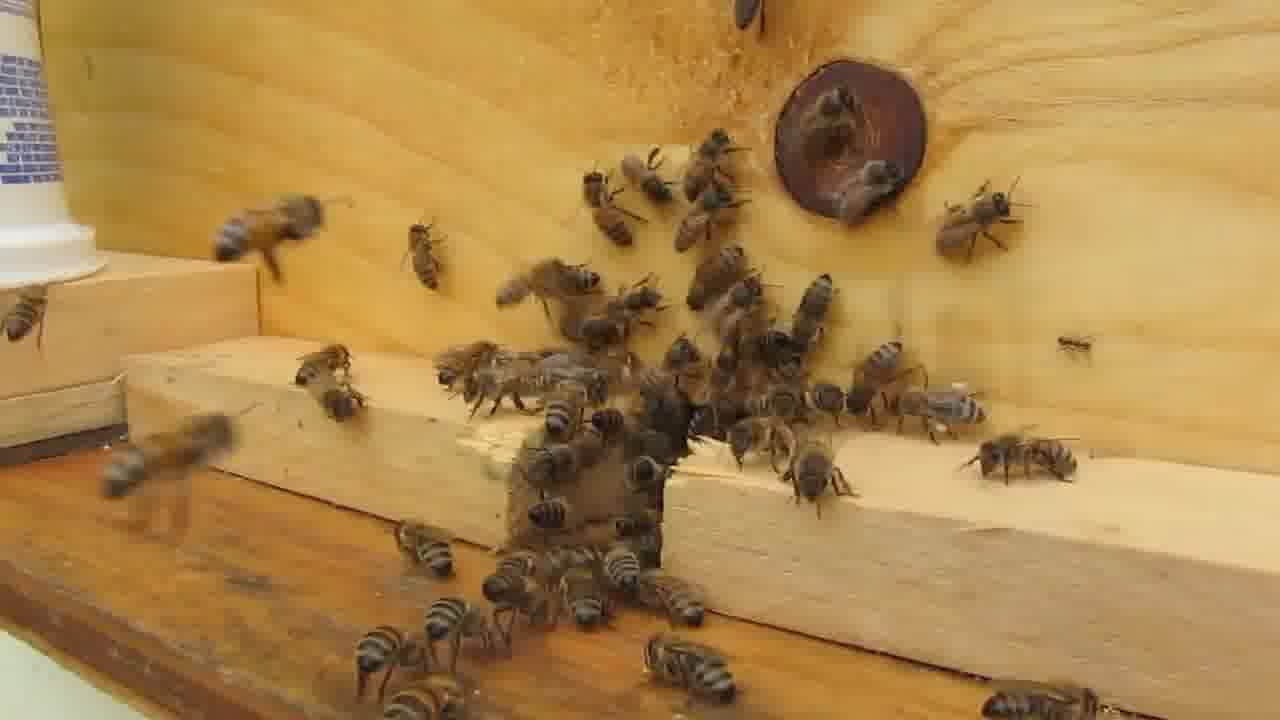pollen: (895, 383, 989, 437)
